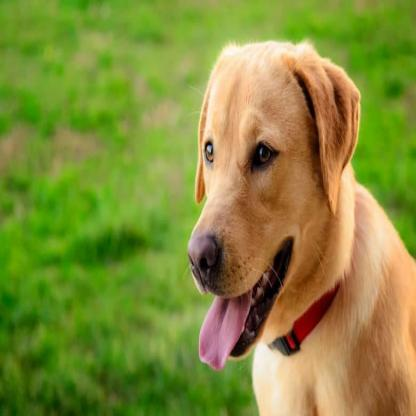dog: (186, 39, 416, 416)
